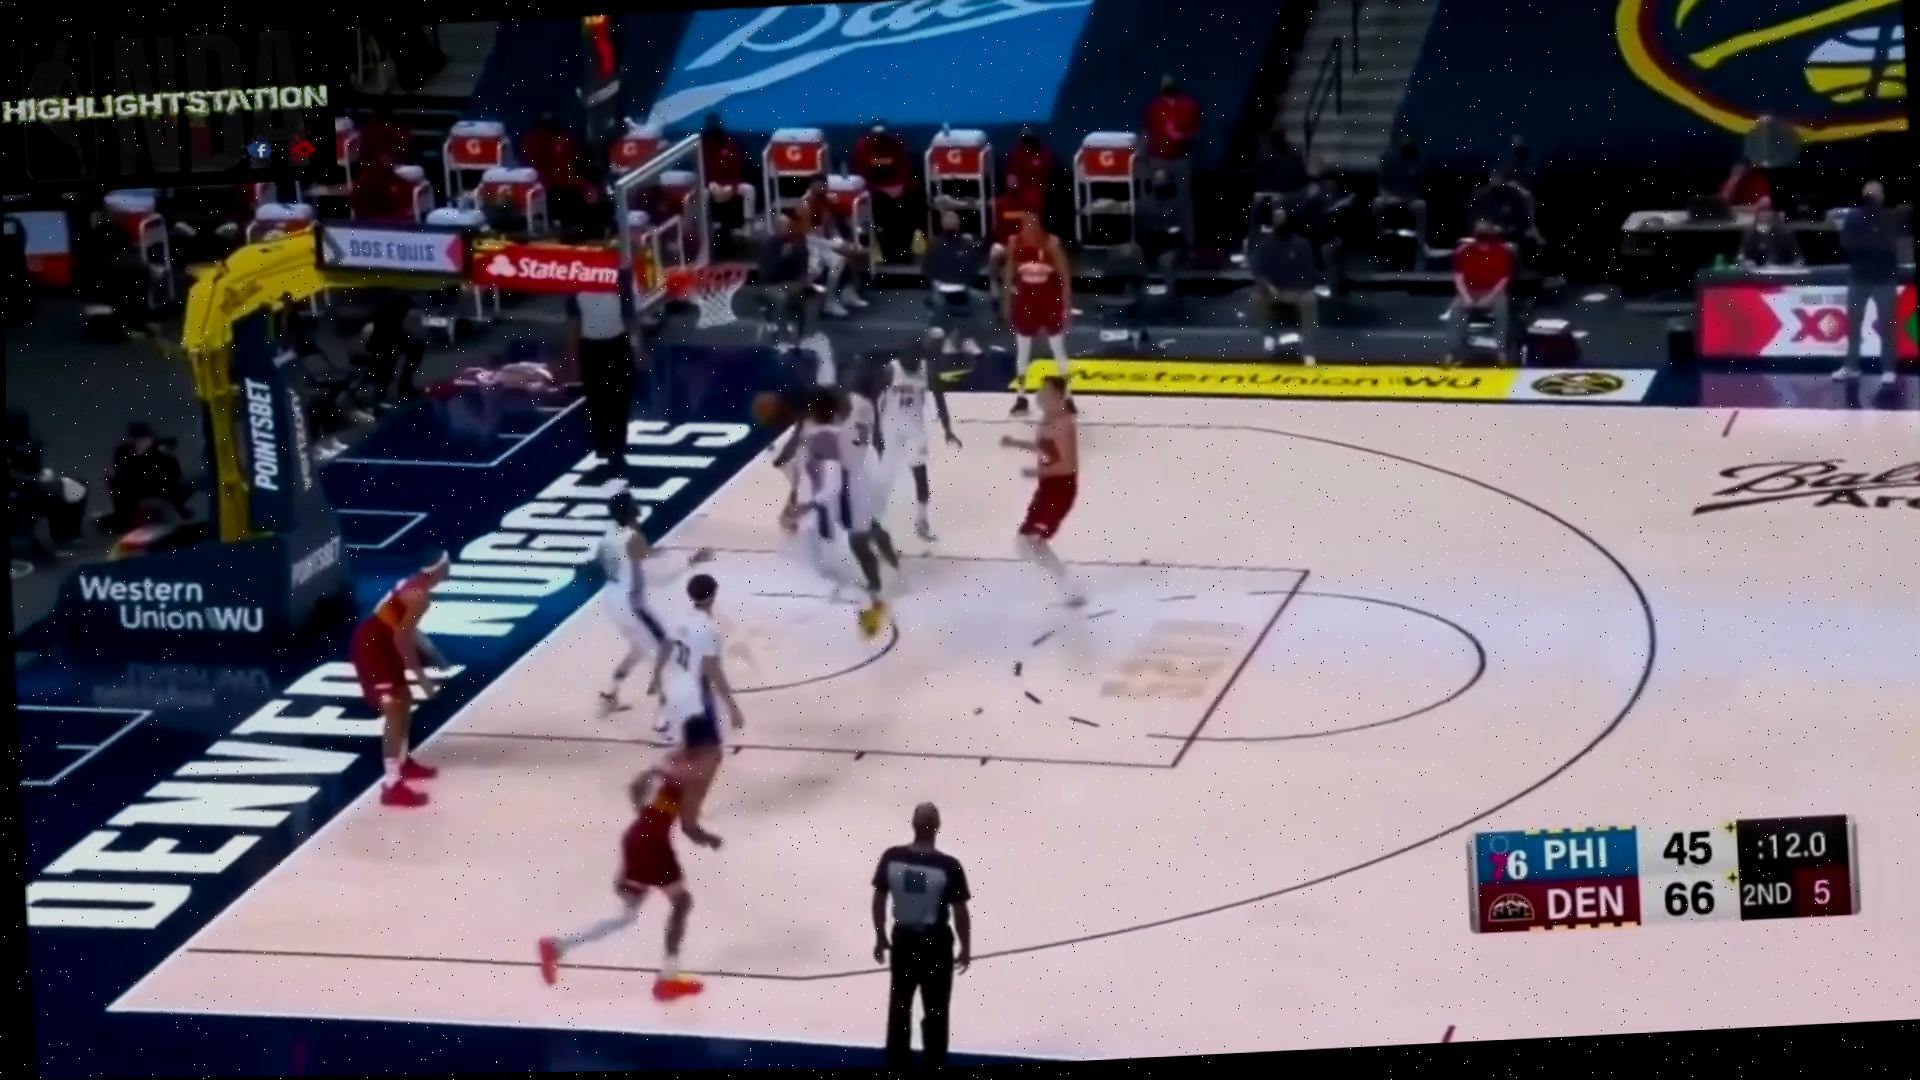foul: (767, 363, 921, 608)
